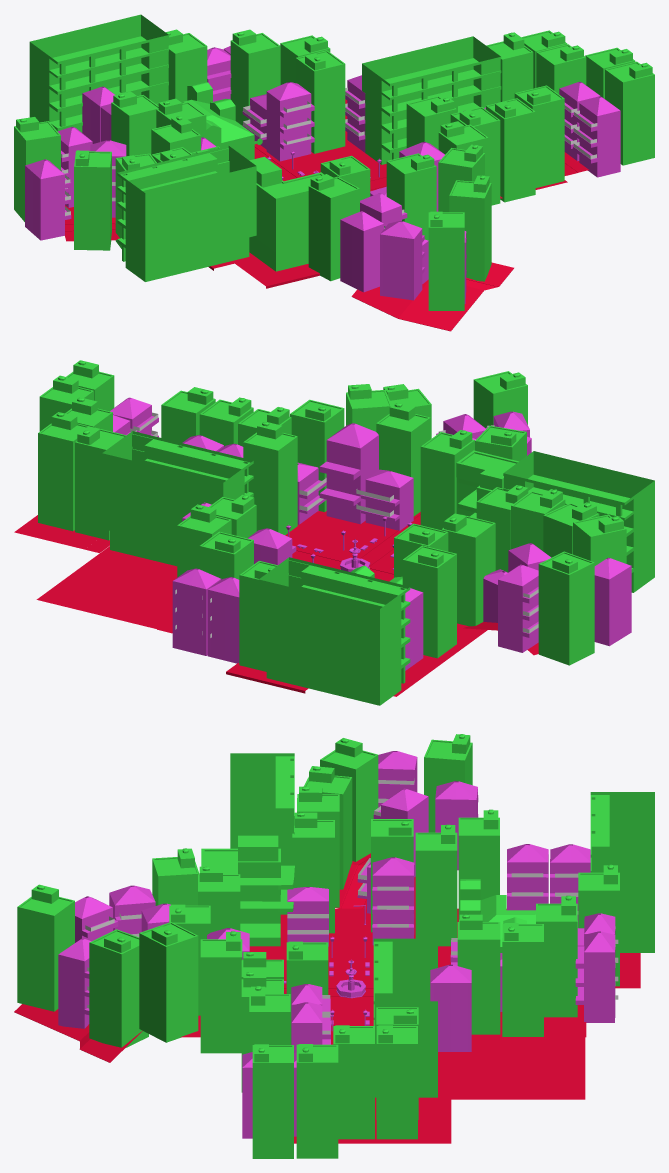
File: Cidade.fbx
3 views of the same model, one above another, from view 1: azimuth 30°, elevation 25°; view 2: azimuth 150°, elevation 25°; view 3: azimuth 270°, elevation 25° (orthographic). The views are drawn at different scales.
Parts seen in each view (by area): view 1: AssetsCidade, AssetsMisc_Cidade, Terreno_Cidade; view 2: AssetsCidade, AssetsMisc_Cidade, Terreno_Cidade; view 3: AssetsCidade, AssetsMisc_Cidade, Terreno_Cidade.
Part boxes in pixels (bbox=[...]): AssetsCidade: bbox=[14, 14, 654, 310]; AssetsMisc_Cidade: bbox=[25, 46, 620, 303]; Terreno_Cidade: bbox=[65, 99, 588, 331]; AssetsCidade: bbox=[38, 360, 654, 705]; AssetsMisc_Cidade: bbox=[110, 397, 631, 670]; Terreno_Cidade: bbox=[14, 511, 538, 696]; AssetsCidade: bbox=[17, 734, 654, 1158]; AssetsMisc_Cidade: bbox=[58, 751, 615, 1138]; Terreno_Cidade: bbox=[14, 853, 640, 1143].
Size of the model in its own units: 15363 by 3320 by 13194.
